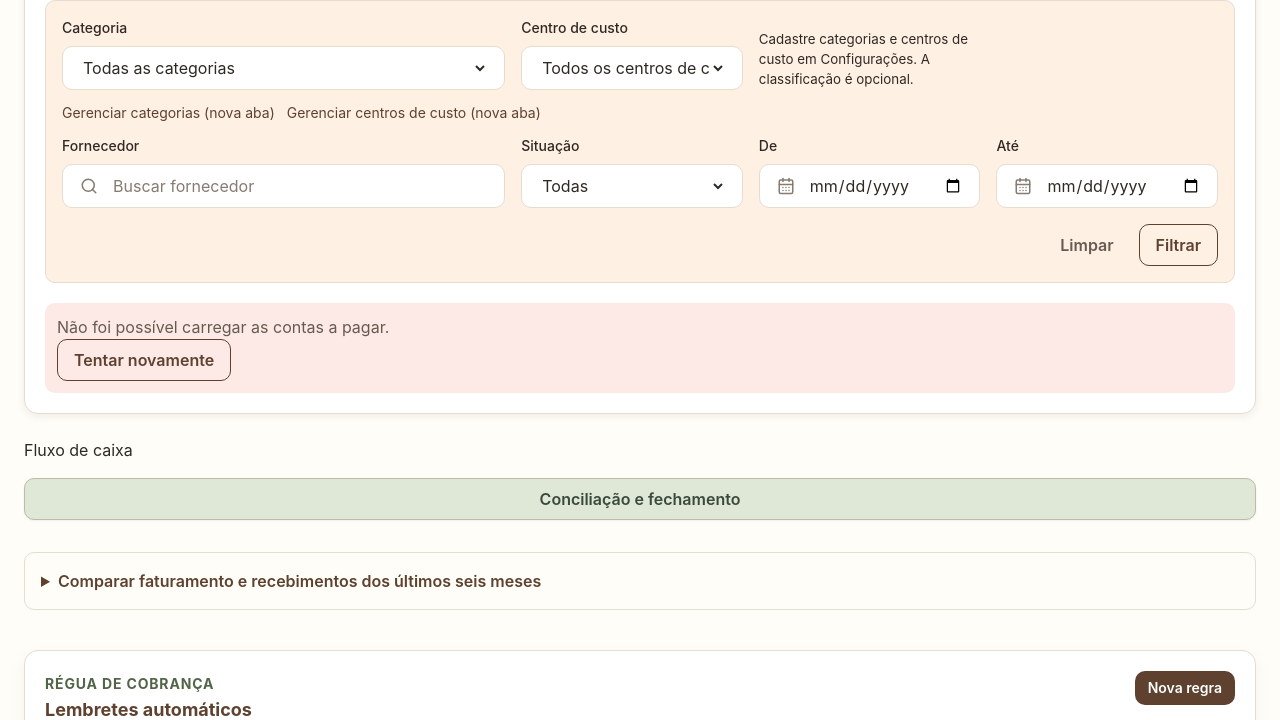
Test: FinancePage — contas a pagar › exibe falha de consulta junto à lista e permite tentar novamente
(page scrolled)
Click the button "Tentar novamente": (144, 360) [57,339,231,381]
(page scrolled)
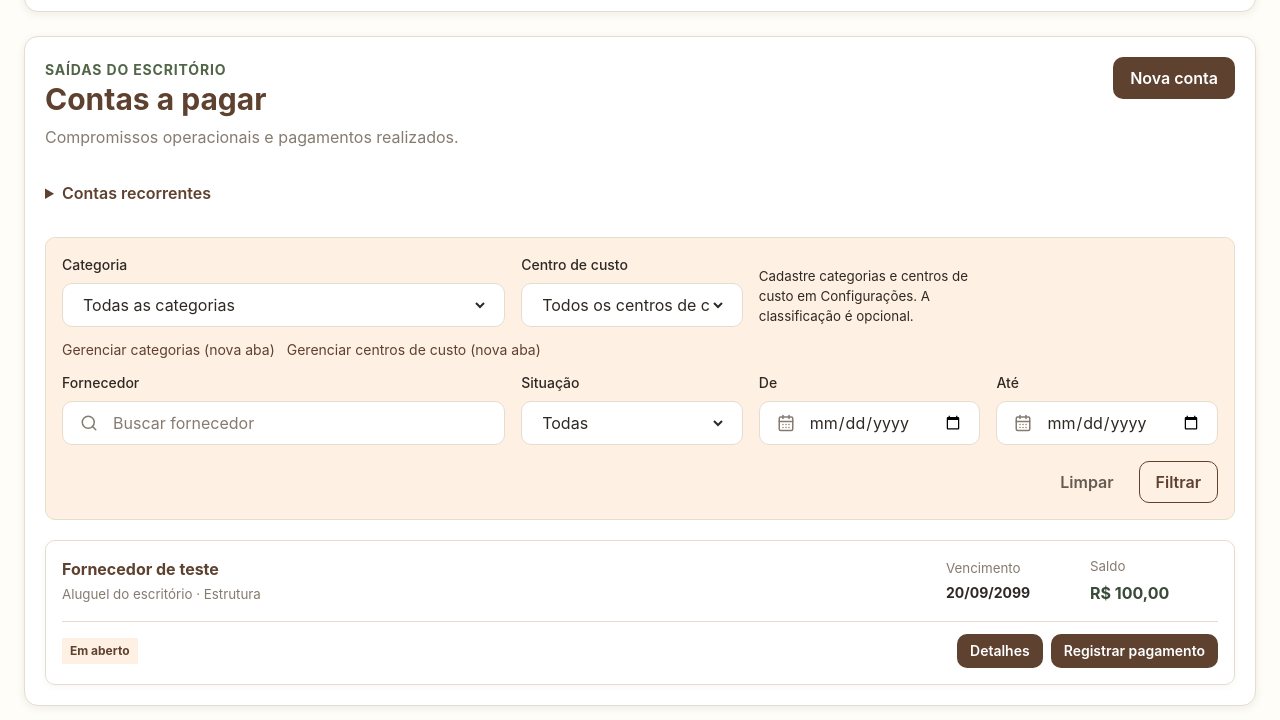
Result: the element with class "finance-payables" shows "Fornecedor de teste" at [62,559,219,579]
